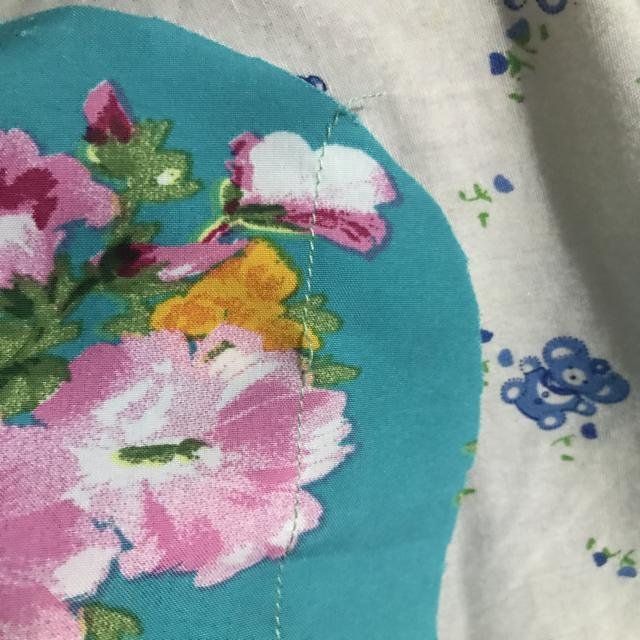good: (298, 230, 323, 290)
skip: (286, 314, 330, 388)
